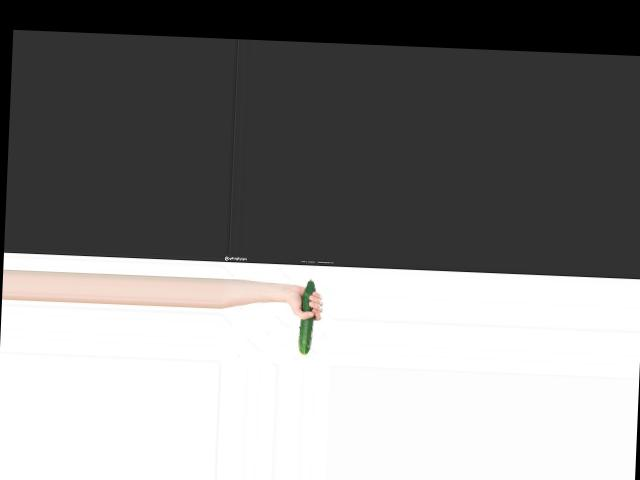cucumber: (298, 278, 316, 354)
